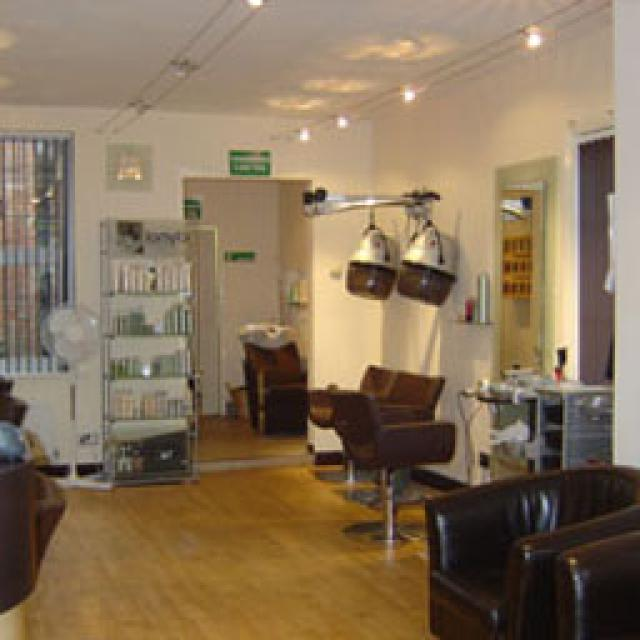2001: (2, 128, 75, 372)
armchair crop: (430, 460, 640, 635)
armchair occluded: (5, 458, 70, 608)
armchair of dentist: (245, 338, 312, 428)
ceiling beam: (5, 0, 615, 118)
fan lamp: (42, 302, 108, 488)
floor -X: (5, 402, 640, 635)
hairdryer: (400, 222, 462, 302), (348, 225, 400, 298)
lamp crop: (528, 22, 545, 45), (402, 80, 420, 100), (340, 112, 352, 128)
mirror crop: (495, 155, 560, 380)
picture crop: (110, 140, 155, 185)
shelves crop: (102, 218, 202, 485)
sign: (232, 148, 275, 175)
stand clothes: (490, 375, 615, 478)
swivel chair crop: (332, 388, 458, 542)
wall clock: (2, 100, 378, 472), (380, 18, 618, 525), (188, 178, 278, 410), (615, 0, 640, 527), (280, 180, 315, 425)
